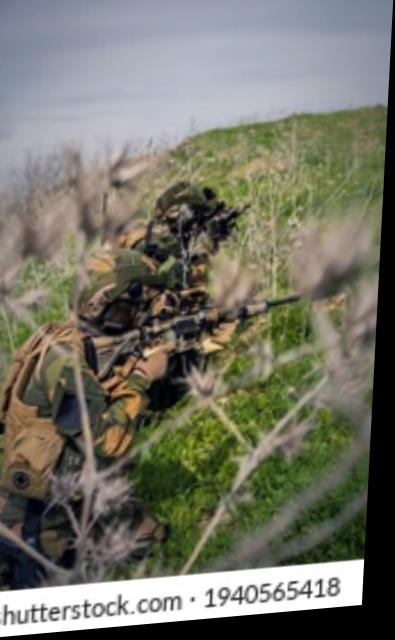other: (12, 193, 226, 458)
